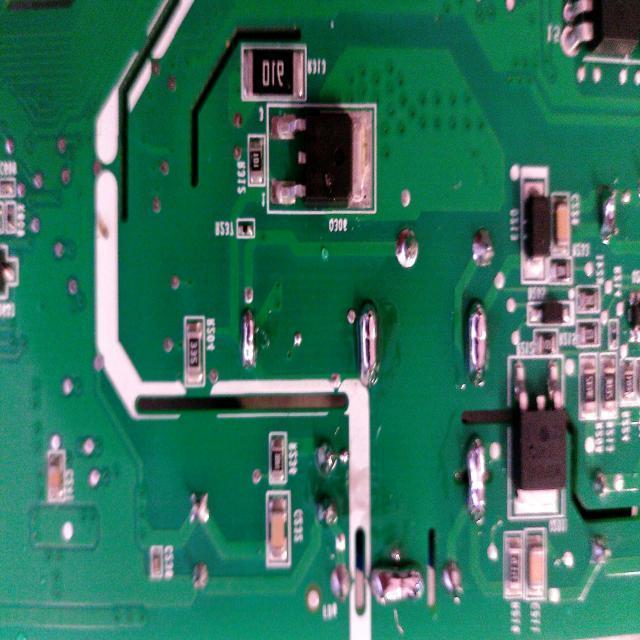Soldering bridge: (364, 556, 426, 604), (354, 291, 382, 393), (466, 284, 489, 392), (466, 434, 490, 530), (598, 172, 622, 248), (240, 298, 256, 370)
